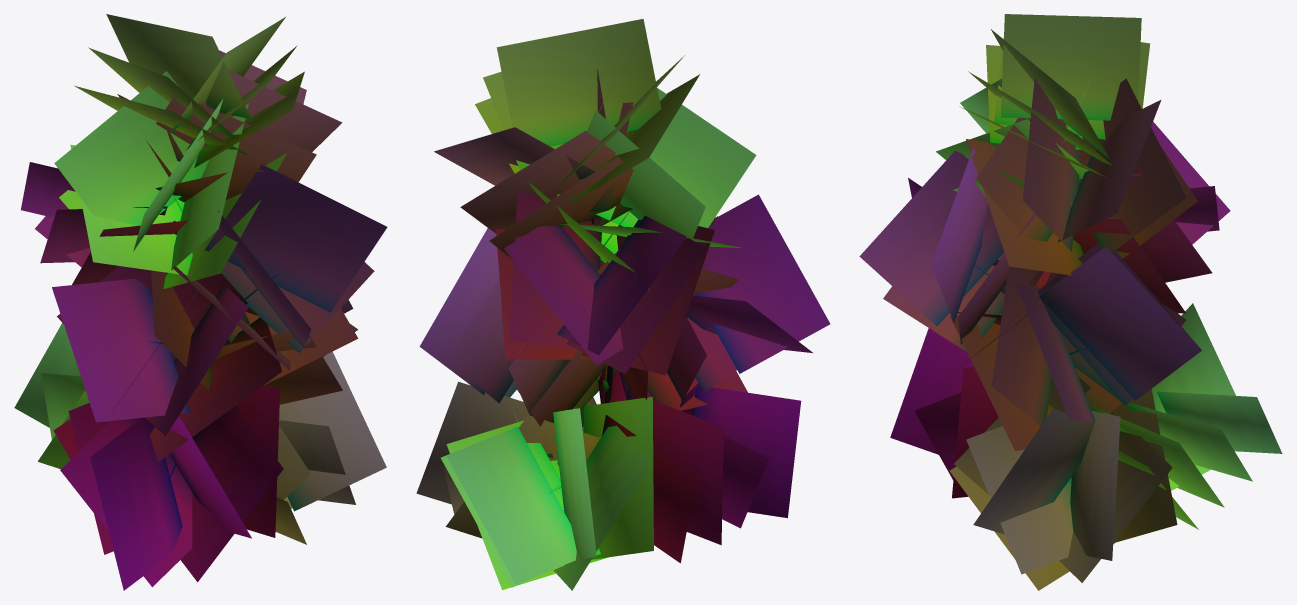
Rendered from URP_P15_Tree_9_LOD_1.fbx.
The picture shows the model from 3 angles, left to right: view 1: azimuth 30°, elevation 25°; view 2: azimuth 150°, elevation 25°; view 3: azimuth 270°, elevation 25°; orthographic projection. The views are drawn at different scales.
Visible parts, largest first — view 1: Tree_9_LOD_1; view 2: Tree_9_LOD_1; view 3: Tree_9_LOD_1.
Part boxes in pixels (x1=…): Tree_9_LOD_1: x1=14, y1=14, x2=387, y2=590; Tree_9_LOD_1: x1=416, y1=18, x2=830, y2=590; Tree_9_LOD_1: x1=859, y1=14, x2=1282, y2=590.
Bounding box in the file's own units: 462 × 754 × 551.
